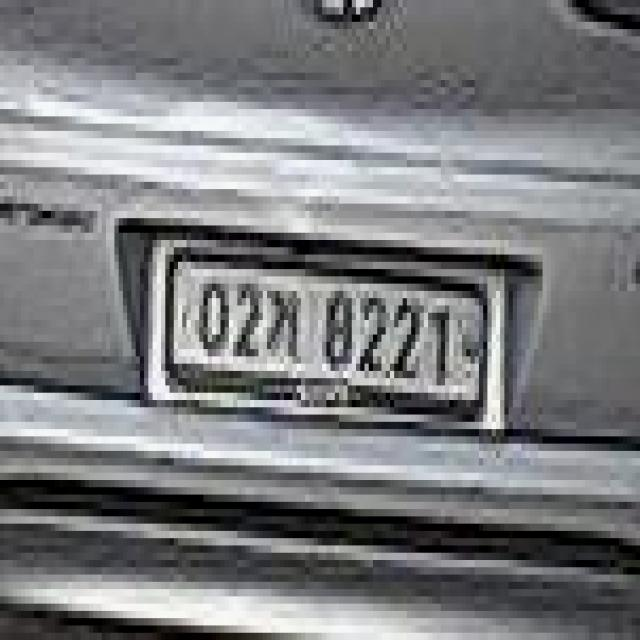illegal_plate: (164, 245, 500, 429)
